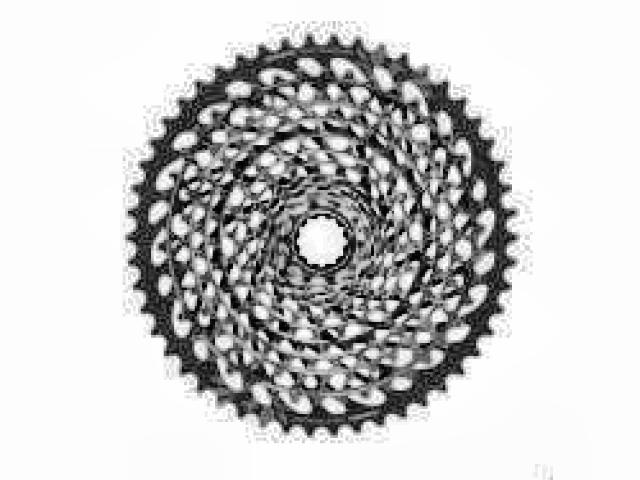cassette: (123, 30, 522, 437)
